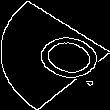O_SE: (8, 22, 102, 88)
